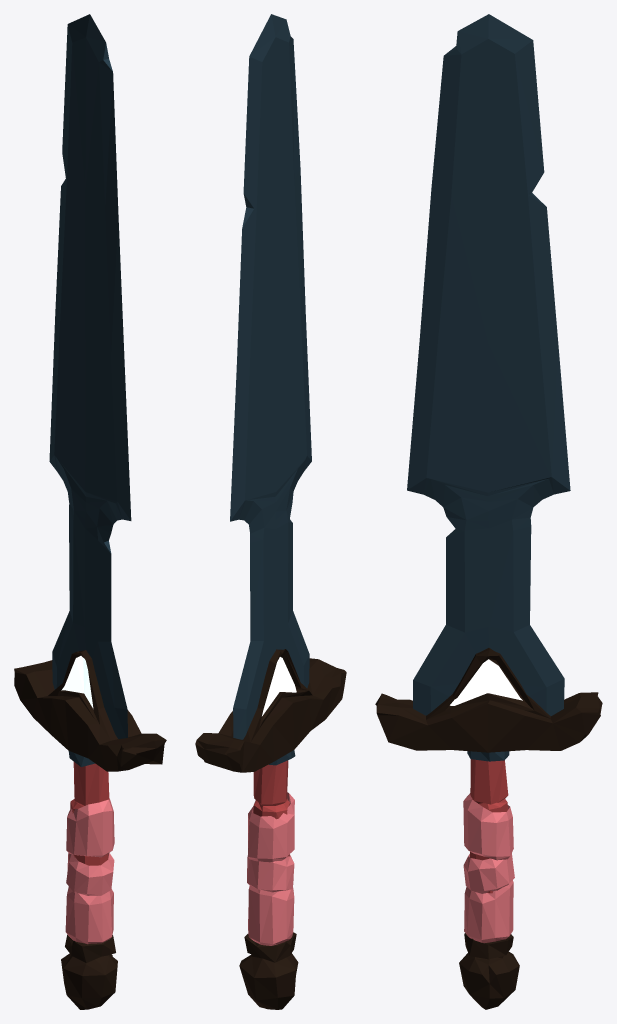
The model's file is SFFA_Weapon_Longsword_Gold_005.fbx.
3 views of the same model, side by side, from view 1: azimuth 30°, elevation 25°; view 2: azimuth 150°, elevation 25°; view 3: azimuth 270°, elevation 25° (orthographic).
Parts seen in each view (by area): view 1: SFFA_Weapon_Longsword_Gold_005; view 2: SFFA_Weapon_Longsword_Gold_005; view 3: SFFA_Weapon_Longsword_Gold_005.
Boxes of the visible parts, x1,y1,x2,y2 form: SFFA_Weapon_Longsword_Gold_005: (14, 14, 166, 1009); SFFA_Weapon_Longsword_Gold_005: (195, 14, 346, 1009); SFFA_Weapon_Longsword_Gold_005: (375, 14, 602, 1009).
Bounding box in the file's own units: 7.71 × 141 × 29.28.
